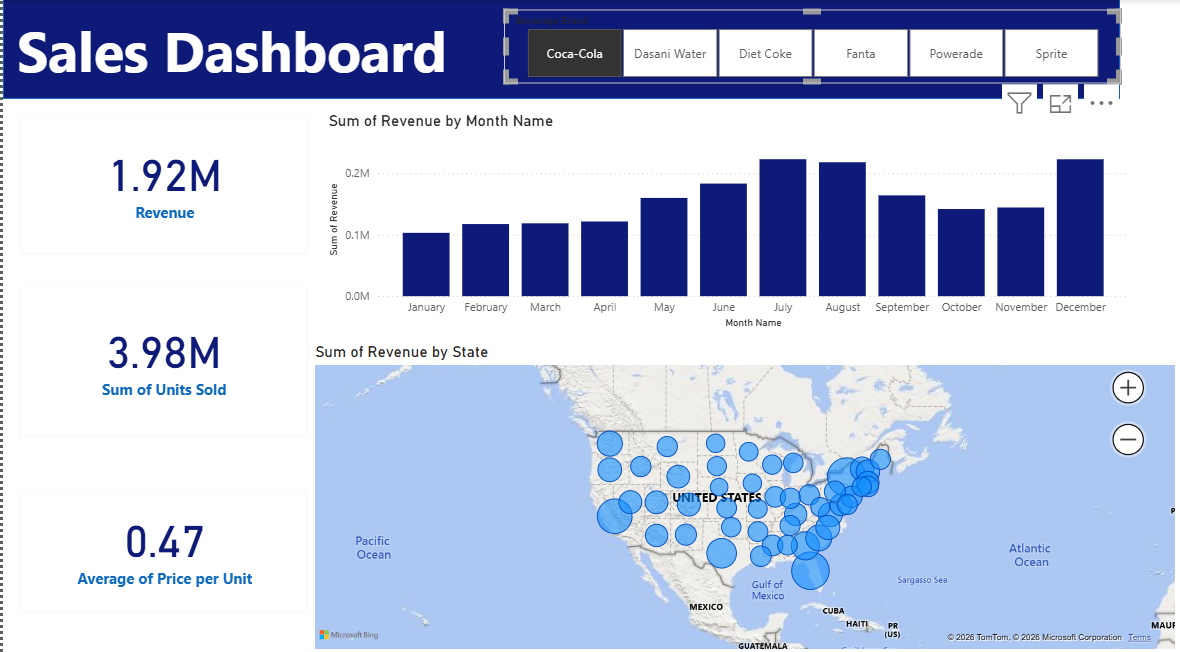

The dashboard page shown, as its layout file describes it:
{"tool":"powerbi","page":{"name":"Page 1","canvas":[1280,720],"ordinal":0},"visuals":[{"type":"shape","box":[0,0,1205.7,107.7],"z":0},{"type":"cardVisual","fields":{"Data":["Sum(Data.Revenue)"]},"box":[1.6,108.5,344.9,184.6],"z":1000},{"type":"cardVisual","fields":{"Data":["Sum(Data.Units Sold)"]},"box":[0,293.1,346.5,197.5],"z":2000},{"type":"cardVisual","fields":{"Data":["Avg(Data.Price per Unit)"]},"box":[1.6,513.3,344.9,165.2],"z":3000},{"type":"columnChart","fields":{"Category":["Data.Month Name"],"Y":["Sum(Data.Revenue)"]},"box":[346.5,121.4,872.8,238],"z":4000},{"type":"map","fields":{"Size":["Sum(Data.Revenue)"],"Category":["Data.State"]},"box":[331.9,370.8,937.5,335.2],"z":5000},{"type":"slicer","fields":{"Values":["Data.Beverage Brand"]},"box":[540.8,11.3,665.5,79.3],"z":6000}]}

Visuals, with their boxes in screenshot pixels (x1, y1, x2, y2), scaled from the page's 1280x720 canvas onto the 1180x652 screenshot:
shape: 0 0 1112 98
cardVisual - Sum(Data.Revenue): 1 98 319 265
cardVisual - Sum(Data.Units Sold): 0 265 319 444
cardVisual - Avg(Data.Price per Unit): 1 465 319 614
columnChart - Data.Month Name x Sum(Data.Revenue): 319 110 1124 325
map - Sum(Data.Revenue) x Data.State: 306 336 1170 639
slicer - Data.Beverage Brand: 499 10 1112 82
